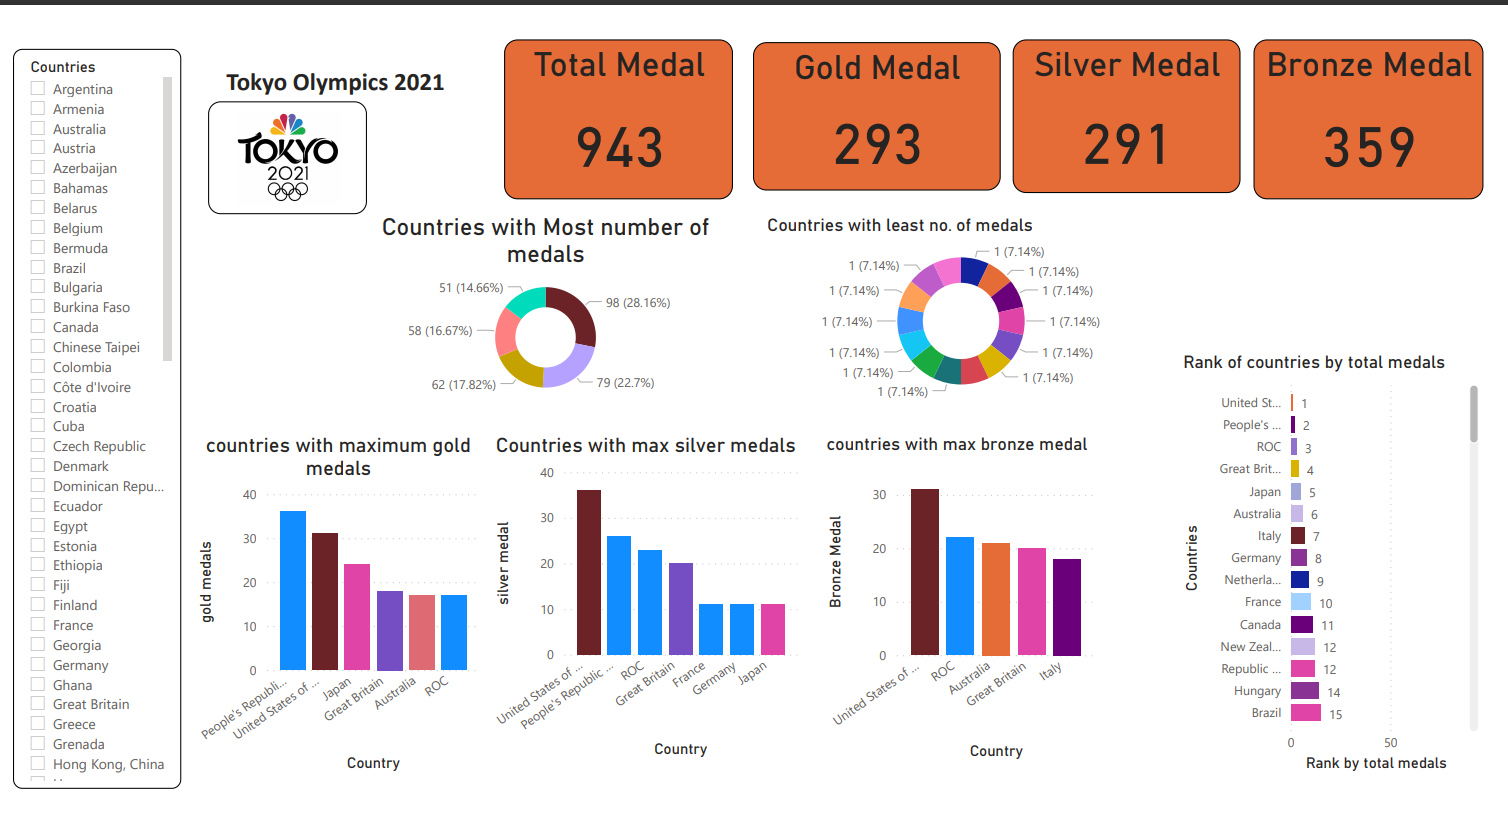

Layout of this report page (visuals, bound fields, positions):
{"tool":"powerbi","page":{"name":"Page 1","canvas":[1416,720],"ordinal":0},"visuals":[{"type":"slicer","fields":{"Values":["Medal Standings.Team/NOC"]},"box":[9.7,0,160.9,707.9],"z":0},{"type":"card","title":"Total Medal","fields":{"Values":["Sum(Medal Standings.Total)"]},"box":[469.9,2.6,218.8,153.2],"z":1000},{"type":"card","title":"Bronze Medal","fields":{"Values":["Sum(Medal Standings._2)"]},"box":[1186.9,2.6,220.1,153.2],"z":2000},{"type":"card","title":"Silver Medal","fields":{"Values":["Sum(Medal Standings._1)"]},"box":[956.4,2.6,217.5,146.7],"z":3000},{"type":"card","title":"Gold Medal","fields":{"Values":["Sum(Medal Standings.Column1)"]},"box":[708,5.1,236.9,141.6],"z":4000},{"type":"donutChart","title":"Countries with Most number of medals","fields":{"Category":["Medal Standings.Team/NOC"],"Y":["Sum(Medal Standings.Total)"]},"box":[311.5,168.6,396.5,185.4],"z":5000},{"type":"columnChart","title":"countries with maximum gold medals","fields":{"Category":["Medal Standings.Team/NOC"],"Y":["Sum(Medal Standings.Column1)"]},"box":[171.2,379.7,280.6,328.3],"z":6000},{"type":"columnChart","title":"Countries with max silver medals","fields":{"Category":["Medal Standings.Team/NOC"],"Y":["Sum(Medal Standings._1)"]},"box":[455.7,379.7,299.9,315.4],"z":7000},{"type":"columnChart","title":"countries with max bronze medal","fields":{"Category":["Medal Standings.Team/NOC"],"Y":["Sum(Medal Standings._2)"]},"box":[773.7,379.7,267.8,316.7],"z":8000},{"type":"donutChart","title":"Countries with least no. of medals","fields":{"Y":["Sum(Medal Standings.Total)"],"Category":["Medal Standings.Team/NOC"]},"box":[717,169.9,379.7,185.4],"z":9000},{"type":"clusteredBarChart","title":"Rank of countries by total medals","fields":{"Category":["Medal Standings.Team/NOC"],"Y":["Sum(Medal Standings.RankbyTotal)"]},"box":[1114.8,301.2,292.2,406.8],"z":10000},{"type":"textbox","box":[177.6,23.2,267.8,52.8],"z":11000},{"type":"image","box":[186.7,61.8,151.9,108.1],"z":12000}]}

Visuals, with their boxes on the page's 1416x720 design canvas (x1, y1, x2, y2). These are canvas units, not pixel positions in the 1508x818 screenshot, which may show the page scaled, cropped or inside an application window:
slicer - Medal Standings.Team/NOC: {"left": 10, "top": 0, "right": 171, "bottom": 708}
"Total Medal" card: {"left": 470, "top": 3, "right": 689, "bottom": 156}
"Bronze Medal" card: {"left": 1187, "top": 3, "right": 1407, "bottom": 156}
"Silver Medal" card: {"left": 956, "top": 3, "right": 1174, "bottom": 149}
"Gold Medal" card: {"left": 708, "top": 5, "right": 945, "bottom": 147}
"Countries with Most number of medals" donutChart: {"left": 312, "top": 169, "right": 708, "bottom": 354}
"countries with maximum gold medals" columnChart: {"left": 171, "top": 380, "right": 452, "bottom": 708}
"Countries with max silver medals" columnChart: {"left": 456, "top": 380, "right": 756, "bottom": 695}
"countries with max bronze medal" columnChart: {"left": 774, "top": 380, "right": 1042, "bottom": 696}
"Countries with least no. of medals" donutChart: {"left": 717, "top": 170, "right": 1097, "bottom": 355}
"Rank of countries by total medals" clusteredBarChart: {"left": 1115, "top": 301, "right": 1407, "bottom": 708}
textbox: {"left": 178, "top": 23, "right": 445, "bottom": 76}
image: {"left": 187, "top": 62, "right": 339, "bottom": 170}
